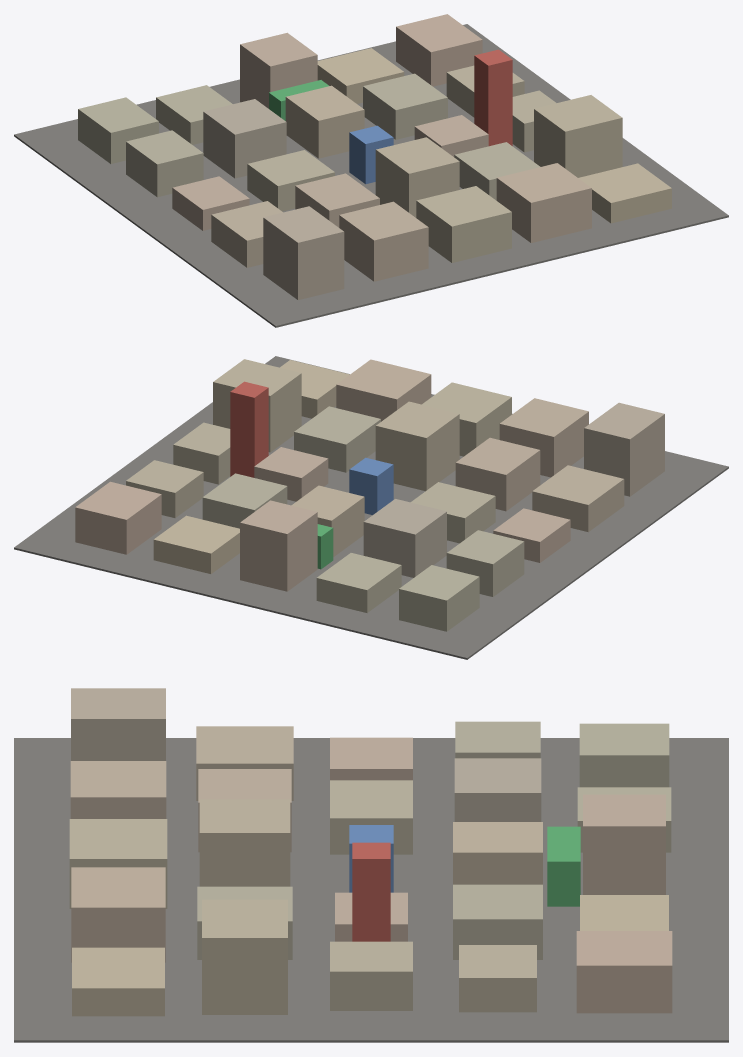
Rendered from block.glb.
3 views of the same model, one above another, from view 1: azimuth 30°, elevation 25°; view 2: azimuth 150°, elevation 25°; view 3: azimuth 270°, elevation 25° (orthographic). The views are drawn at different scales.
Bounding box in the file's own units: 260 × 49 × 260.
